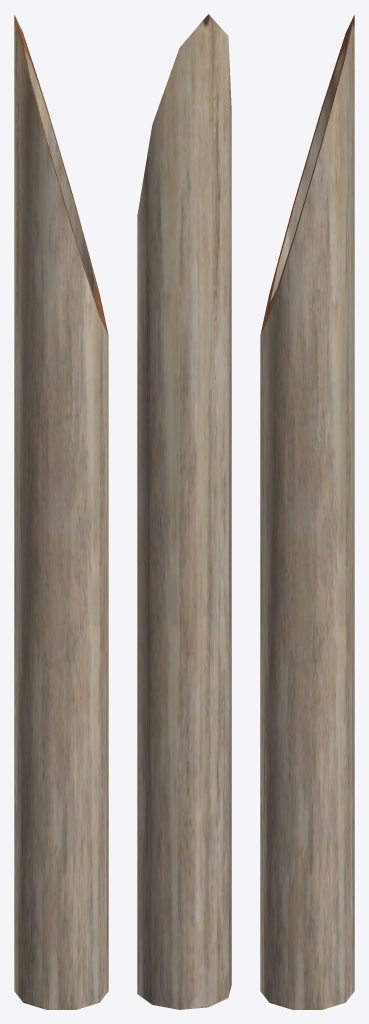
The model's file is thm_tato_debris_s01_l0.fbx.
The picture shows the model from 3 angles, left to right: view 1: azimuth 90°, elevation 25°; view 2: azimuth 210°, elevation 25°; view 3: azimuth 270°, elevation 25°; orthographic projection.
Parts seen in each view (by area): view 1: mesh_node; view 2: mesh_node; view 3: mesh_node.
Part boxes in pixels (x1=…): mesh_node: x1=14, y1=15, x2=108, y2=1009; mesh_node: x1=137, y1=14, x2=231, y2=1009; mesh_node: x1=260, y1=15, x2=354, y2=1009.
Bounding box in the file's own units: 0.383 × 4.59 × 0.4027.
Materials: 2 (2 with a texture image).
